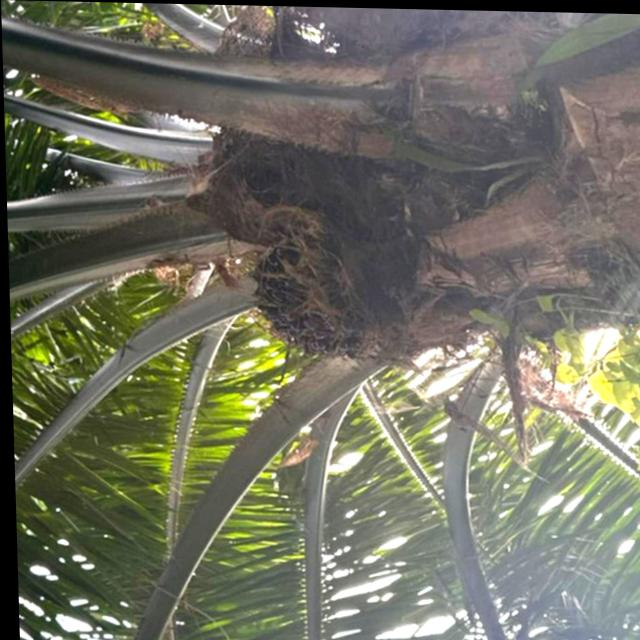ripe: (230, 222, 379, 365)
